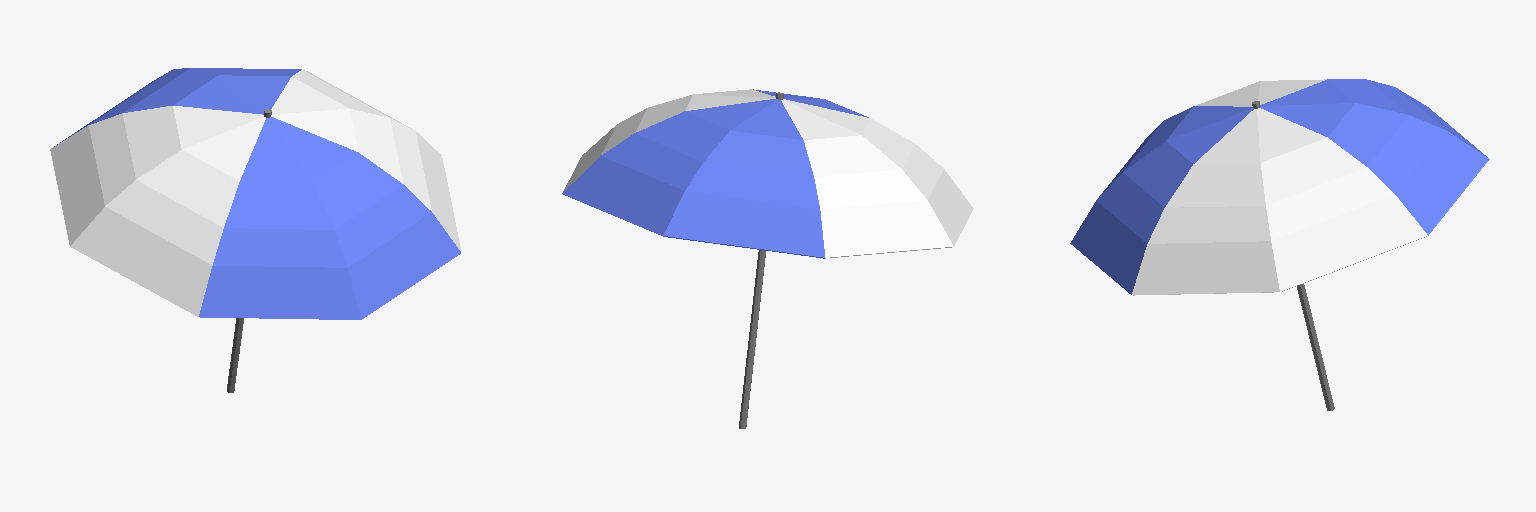
3 renders of one model, left to right at view 1: azimuth 30°, elevation 25°; view 2: azimuth 150°, elevation 25°; view 3: azimuth 270°, elevation 25°, orthographic.
Parts seen in each view (by area): view 1: Umbrella_Sphere.008; view 2: Umbrella_Sphere.008; view 3: Umbrella_Sphere.008.
Part boxes in pixels (bbox=[...]): Umbrella_Sphere.008: bbox=[50, 68, 461, 392]; Umbrella_Sphere.008: bbox=[562, 89, 973, 428]; Umbrella_Sphere.008: bbox=[1070, 79, 1489, 410].
Size of the model in its own units: 1.61 by 1.28 by 1.57.
1 materials, 1 textured.